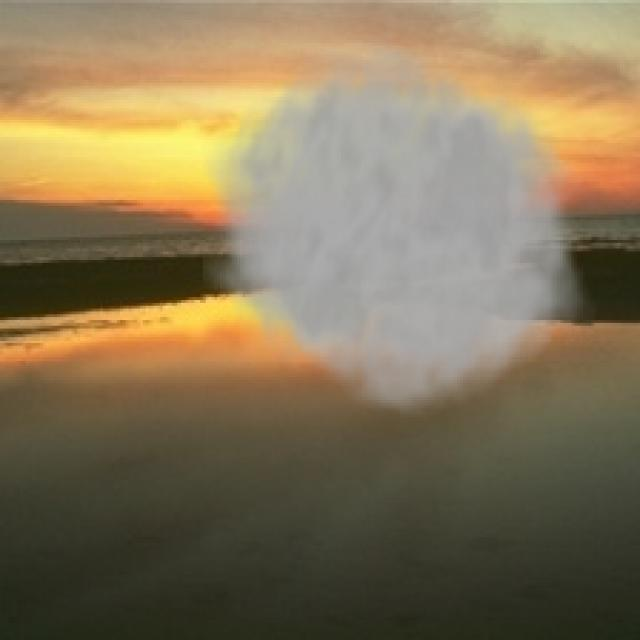Smoke: (203, 26, 600, 426)
